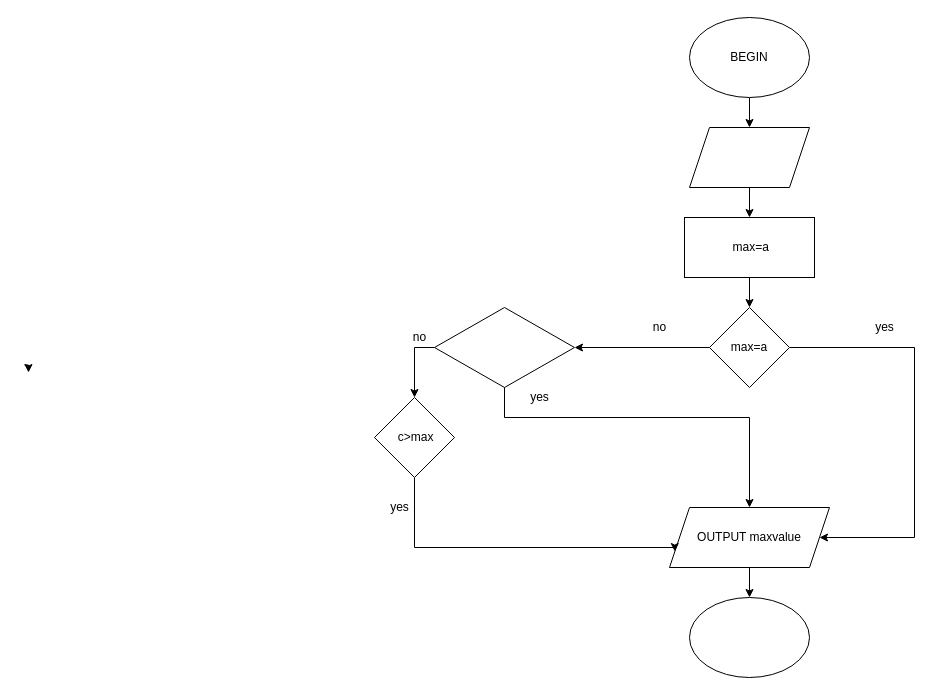
Image size: 940x695. Some labels were removed from this diagram. The centre of each missing label's shape, as x and y in pixels:
"b>max" belongs at point 504,347.
"end" belongs at point 749,637.
"INPUT a b c" belongs at point 749,157.
